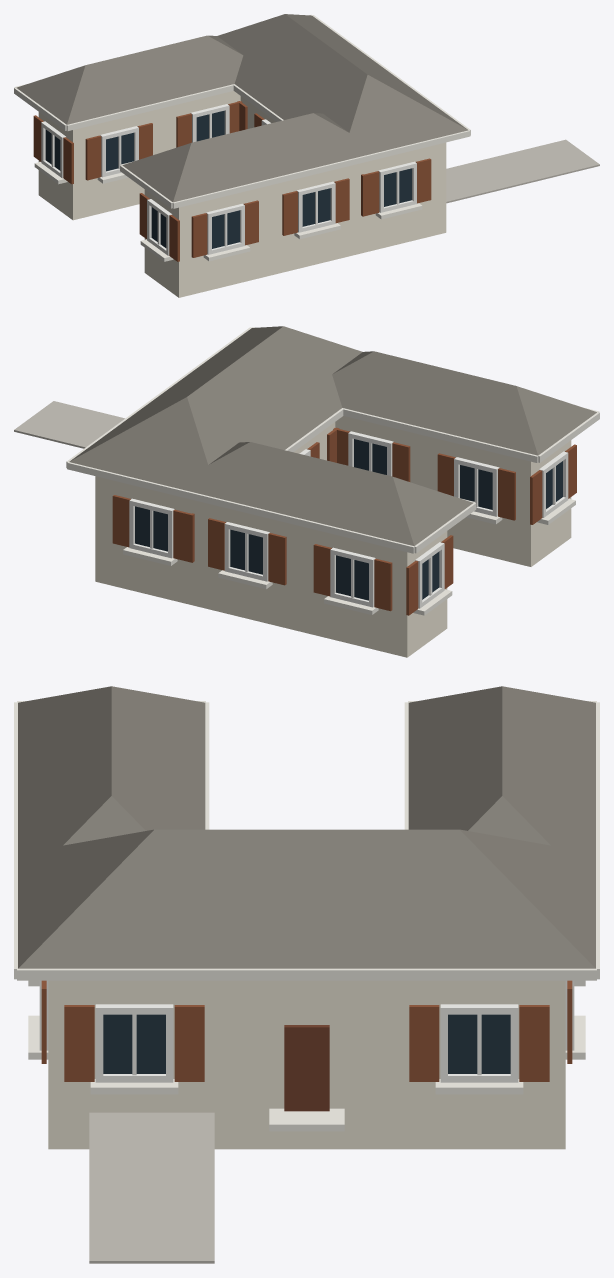
The picture shows the model from 3 angles, top to bottom: view 1: azimuth 30°, elevation 25°; view 2: azimuth 150°, elevation 25°; view 3: azimuth 270°, elevation 25°; orthographic projection. The views are drawn at different scales.
Parts seen in each view (by area): view 1: b4622; view 2: b4622; view 3: b4622.
Part boxes in pixels (x1,y1,x2,y2): b4622: (14,14,599,297); b4622: (14,326,599,657); b4622: (14,686,599,1263).
Size of the model in its own units: 7616 by 2424 by 4678.
